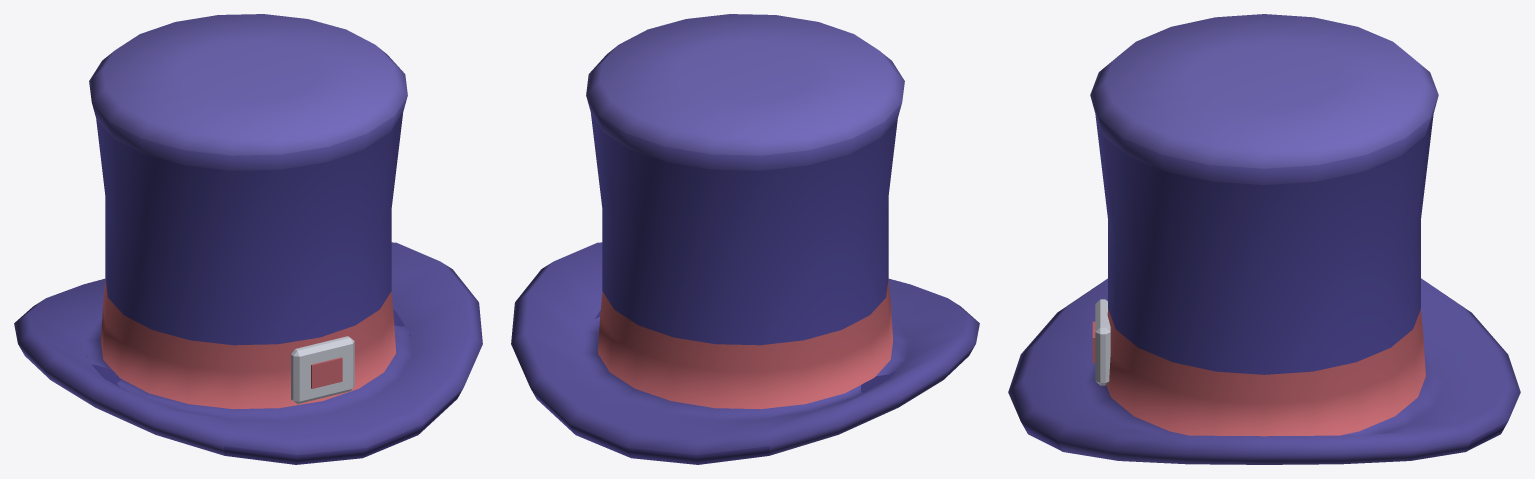
File: slime_hat_top_hat.fbx
3 renders of one model, left to right at view 1: azimuth 30°, elevation 25°; view 2: azimuth 150°, elevation 25°; view 3: azimuth 270°, elevation 25°, orthographic. The views are drawn at different scales.
Parts seen in each view (by area): view 1: slime_hat_top_hat; view 2: slime_hat_top_hat; view 3: slime_hat_top_hat.
Part boxes in pixels (x1,y1,x2,y2): slime_hat_top_hat: [14, 14, 482, 464]; slime_hat_top_hat: [511, 14, 979, 464]; slime_hat_top_hat: [1008, 14, 1520, 464].
Bounding box in the file's own units: 2 × 1.43 × 2.
